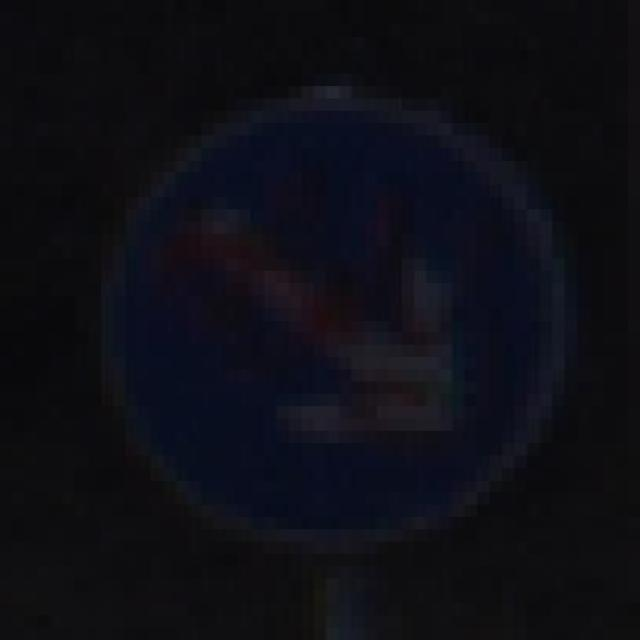Keep-Right: (62, 86, 578, 554)
